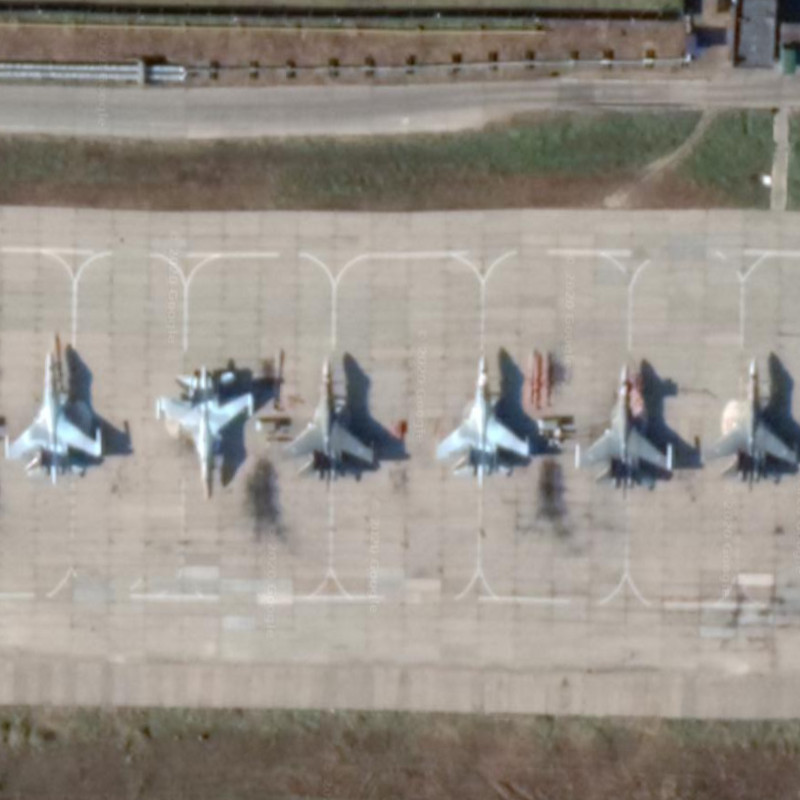A1: (4, 331, 109, 488), (150, 358, 262, 504), (434, 352, 540, 494), (574, 360, 681, 500), (693, 355, 797, 491), (285, 352, 384, 489)
